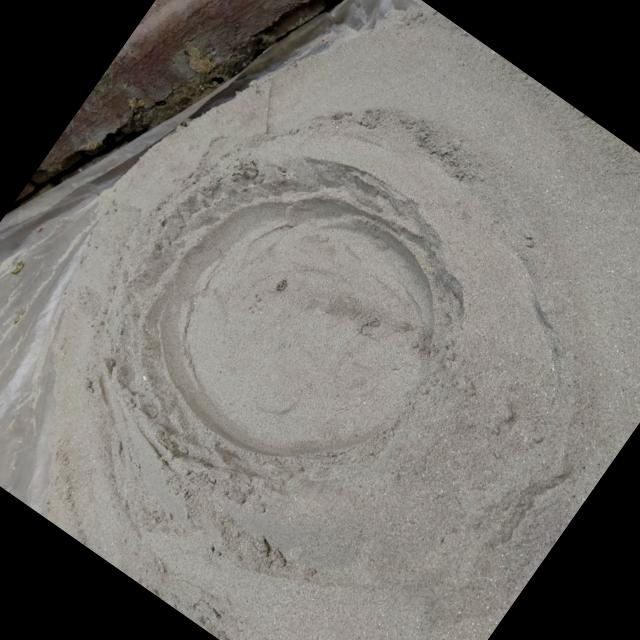C40: (160, 198, 431, 454)
